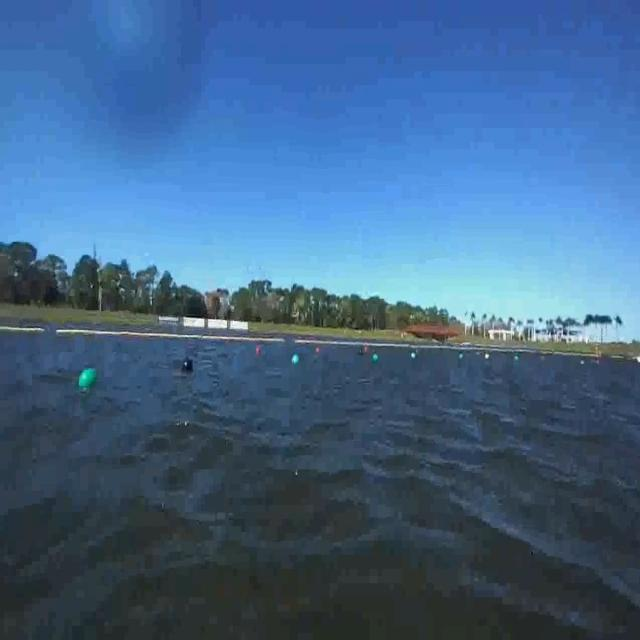black-buoy: (182, 356, 193, 373)
green-buoy: (77, 365, 99, 392), (292, 353, 299, 365), (372, 354, 378, 363)
